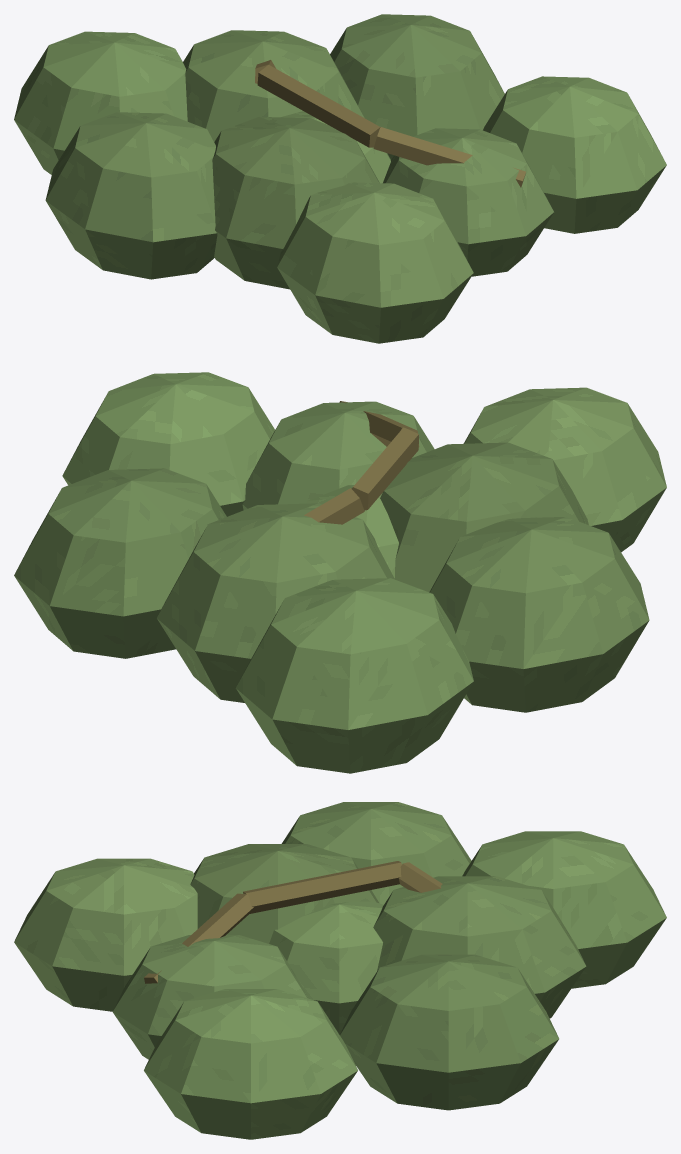
File: grapes.glb
3 renders of one model, top to bottom at view 1: azimuth 30°, elevation 25°; view 2: azimuth 150°, elevation 25°; view 3: azimuth 270°, elevation 25°, orthographic. The views are drawn at different scales.
Visible parts, largest first — view 1: block_individual berry (×9), block_branching grape stem 1, block_branching grape stem 2; view 2: block_individual berry (×9), block_branching grape stem 1, block_branching grape stem 0, block_branching grape stem 2; view 3: block_individual berry (×9), block_branching grape stem 1, block_branching grape stem 2, block_branching grape stem 0.
Part boxes in pixels (x1,y1,x2,y2): block_individual berry (×9): (14,14,666,343); block_branching grape stem 1: (257,65,380,147); block_branching grape stem 2: (373,127,525,187); block_individual berry (×9): (14,372,666,773); block_branching grape stem 1: (351,427,418,510); block_branching grape stem 0: (304,488,364,524); block_branching grape stem 2: (339,401,419,447); block_individual berry (×9): (14,802,666,1139); block_branching grape stem 1: (243,861,401,913); block_branching grape stem 2: (144,893,253,983); block_branching grape stem 0: (398,862,442,892).
Size of the model in its own units: 0.101 by 0.029 by 0.1084.
Materials: 1 (1 with a texture image).
